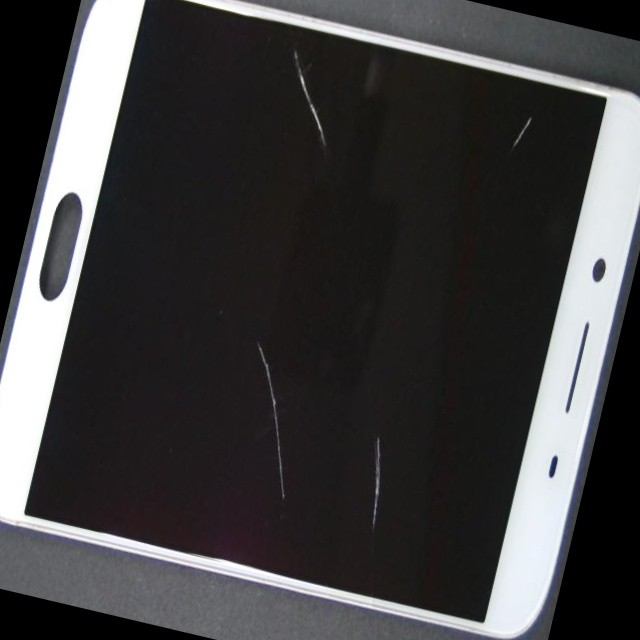scratch: (134, 128, 618, 640), (140, 299, 464, 640), (312, 5, 640, 182), (222, 77, 453, 195)
